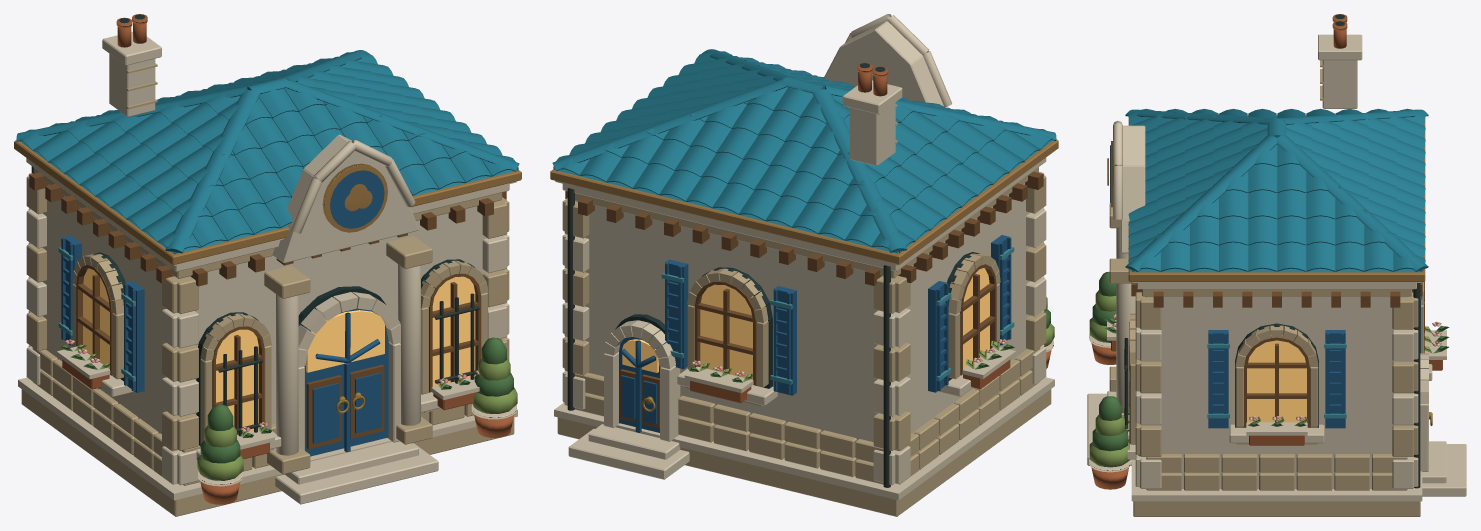
3 views of the same model, side by side, from view 1: azimuth 30°, elevation 25°; view 2: azimuth 150°, elevation 25°; view 3: azimuth 270°, elevation 25° (orthographic). The views are drawn at different scales.
Visible parts, largest first — view 1: harbor_vault_bank_geometry, harbor_vault_bank_geometry ceramic; view 2: harbor_vault_bank_geometry, harbor_vault_bank_geometry ceramic; view 3: harbor_vault_bank_geometry, harbor_vault_bank_geometry ceramic.
Boxes of the visible parts, left/top/right/bottom form: harbor_vault_bank_geometry: left=14, top=14, right=521, bottom=516; harbor_vault_bank_geometry ceramic: left=16, top=50, right=519, bottom=381; harbor_vault_bank_geometry: left=550, top=14, right=1058, bottom=516; harbor_vault_bank_geometry ceramic: left=552, top=49, right=1056, bottom=384; harbor_vault_bank_geometry: left=1087, top=14, right=1466, bottom=516; harbor_vault_bank_geometry ceramic: left=1125, top=108, right=1428, bottom=418.
Size of the model in its own units: 1.04 by 1.01 by 0.9278.
